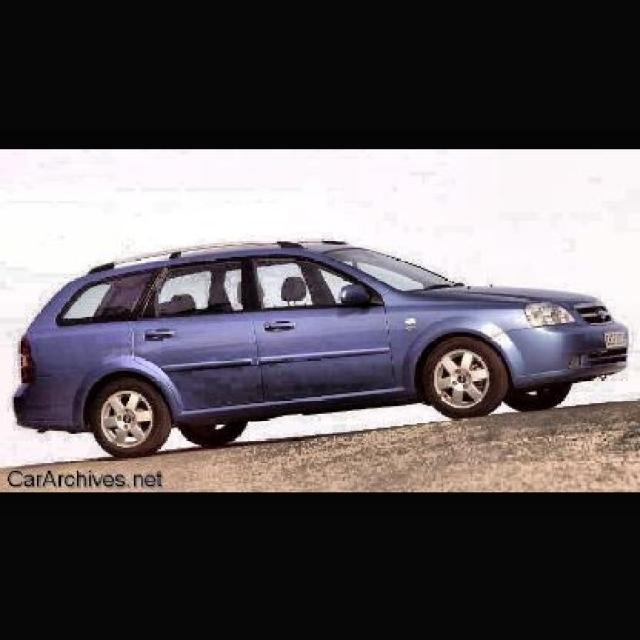blue: (16, 238, 627, 460)
